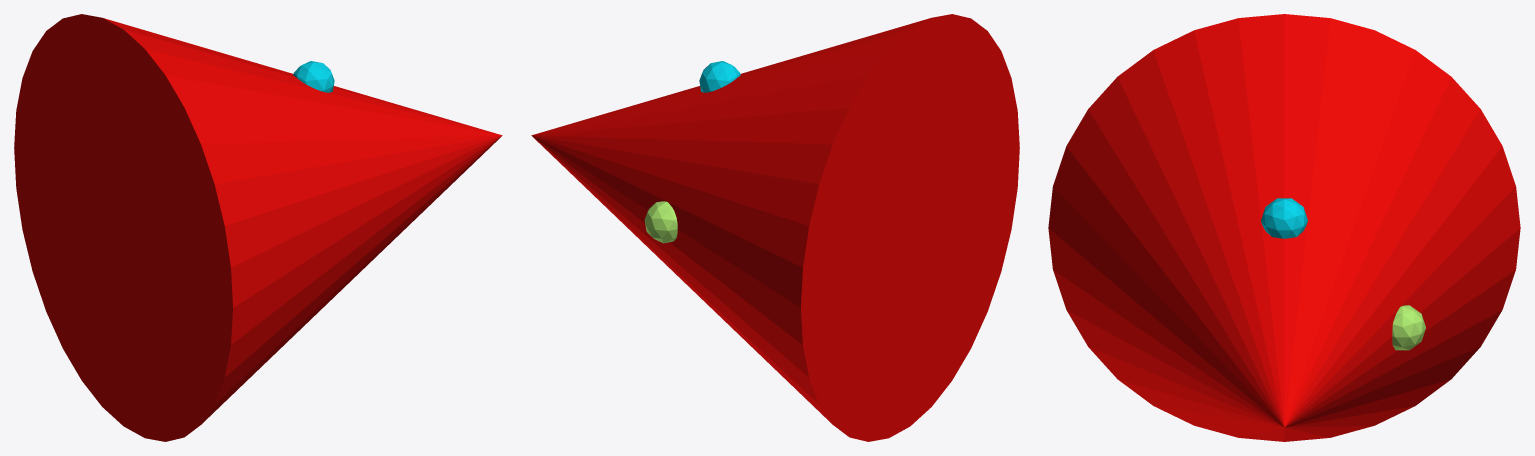
File: axesSpheresCone1000.gltf
3 views of the same model, side by side, from view 1: azimuth 30°, elevation 25°; view 2: azimuth 150°, elevation 25°; view 3: azimuth 270°, elevation 25° (orthographic). The views are drawn at different scales.
Parts seen in each view (by area): view 1: Cone, Icosphere.002; view 2: Cone, Icosphere, Icosphere.002; view 3: Cone, Icosphere.002, Icosphere.
Part boxes in pixels (bbox=[...]): Cone: bbox=[14, 14, 502, 441]; Icosphere.002: bbox=[293, 61, 334, 92]; Cone: bbox=[531, 14, 1019, 441]; Icosphere: bbox=[644, 201, 677, 243]; Icosphere.002: bbox=[699, 61, 740, 92]; Cone: bbox=[1048, 14, 1520, 441]; Icosphere.002: bbox=[1261, 198, 1307, 238]; Icosphere: bbox=[1392, 305, 1425, 350].
Bounding box in the file's own units: 20 × 20 × 20.
